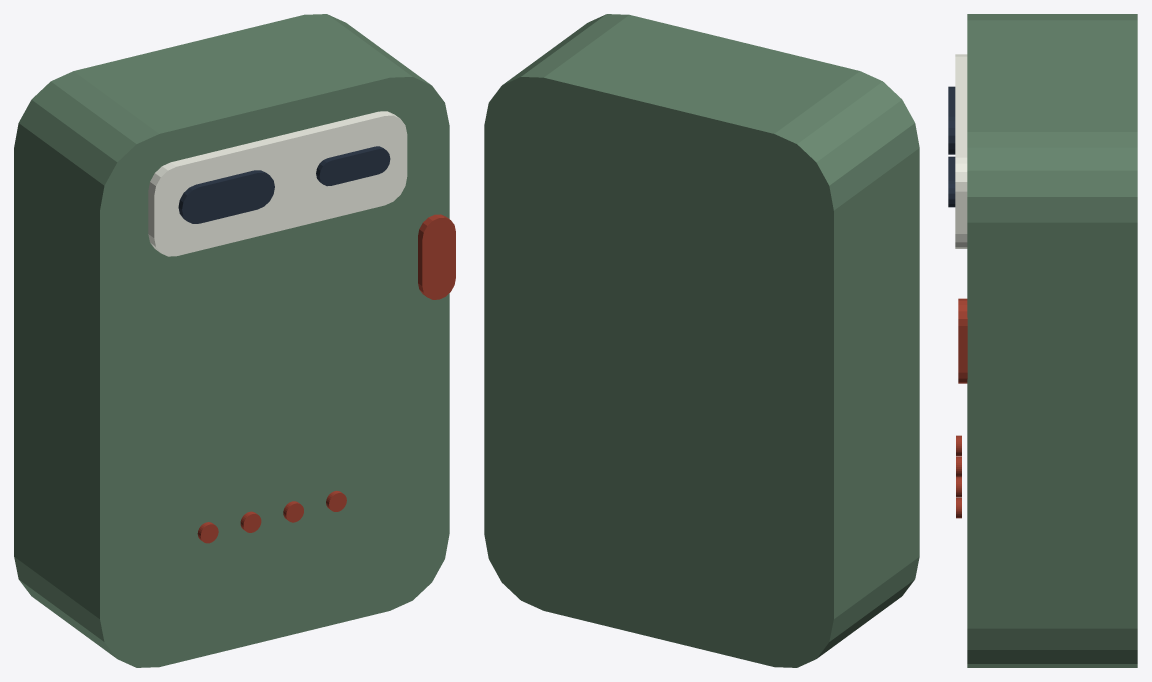
Rendered from powerbank.glb.
3 renders of one model, left to right at view 1: azimuth 30°, elevation 25°; view 2: azimuth 150°, elevation 25°; view 3: azimuth 270°, elevation 25°, orthographic.
Visible parts, largest first — view 1: body, port panel, port usb a, power key, port usb c; view 2: body; view 3: body, port panel, power key, port usb a, port usb c.
Part boxes in pixels (left/top/right/bottom): body: left=14, top=14, right=449, bottom=667; port panel: left=148, top=111, right=407, bottom=256; port usb a: left=178, top=170, right=274, bottom=223; power key: left=418, top=214, right=455, bottom=299; port usb c: left=316, top=146, right=390, bottom=186; body: left=484, top=14, right=919, bottom=667; body: left=967, top=14, right=1137, bottom=667; port panel: left=955, top=54, right=967, bottom=248; power key: left=958, top=298, right=967, bottom=383; port usb a: left=948, top=86, right=955, bottom=154; port usb c: left=948, top=156, right=955, bottom=207.
Size of the model in its own units: 0.945 by 1.37 by 0.4445.
